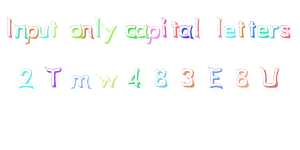2: (13, 62, 39, 93)
3: (177, 64, 200, 95)
4: (122, 62, 148, 93)
8: (149, 63, 176, 93), (232, 62, 254, 97)
E: (201, 63, 230, 95)
I: (1, 12, 19, 41)
T: (39, 62, 67, 92)
U: (254, 61, 287, 93)
a: (177, 20, 195, 45), (135, 20, 150, 40)
c: (123, 21, 137, 42)
e: (222, 21, 238, 40), (255, 22, 270, 39)
i: (157, 14, 170, 40)
l: (213, 13, 225, 42), (93, 12, 104, 40), (193, 16, 205, 41)
m: (66, 71, 93, 91)
n: (79, 19, 95, 43), (13, 19, 29, 41)
o: (67, 21, 85, 41)
p: (144, 20, 161, 49), (23, 21, 41, 47)
r: (268, 21, 280, 41)
s: (279, 21, 295, 41)
t: (50, 17, 63, 39), (169, 18, 181, 40), (236, 17, 247, 40), (247, 15, 257, 40)
u: (33, 22, 51, 41)
w: (93, 72, 124, 91)
y: (101, 23, 118, 49)
